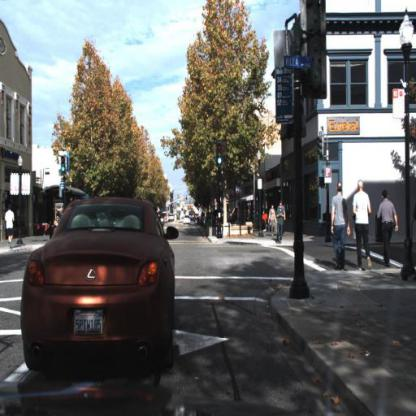car: (20, 197, 185, 376), (183, 214, 193, 228), (190, 211, 196, 224), (168, 214, 175, 222)
pedestrian: (331, 173, 353, 271), (352, 172, 372, 272), (378, 185, 399, 274), (5, 204, 17, 250), (5, 204, 16, 252), (275, 203, 287, 243), (54, 206, 66, 243), (270, 205, 277, 236), (234, 207, 242, 225), (55, 210, 63, 224), (51, 168, 57, 181)
trafficLight: (217, 142, 225, 170), (59, 156, 66, 179)
